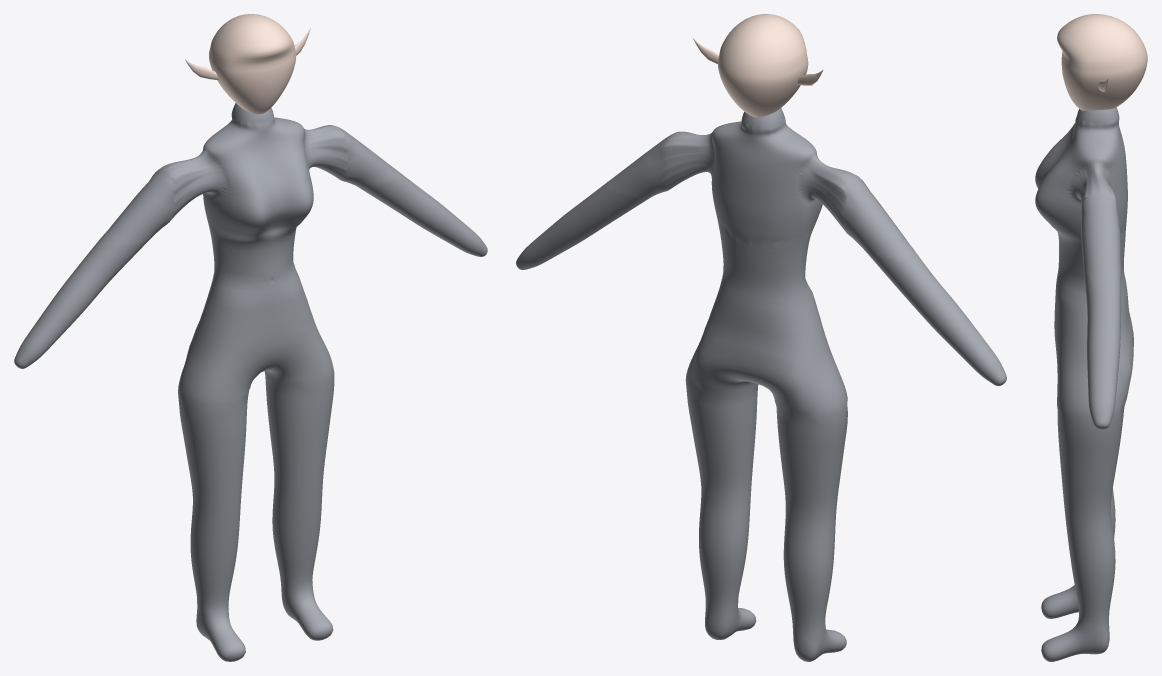
Rendered from pre-test-body.glb.
3 views of the same model, side by side, from view 1: azimuth 30°, elevation 25°; view 2: azimuth 150°, elevation 25°; view 3: azimuth 270°, elevation 25° (orthographic). The views are drawn at different scales.
Visible parts, largest first — view 1: emilia_v3_test_body, locked_context_emilia_head; view 2: emilia_v3_test_body, locked_context_emilia_head; view 3: emilia_v3_test_body, locked_context_emilia_head.
Boxes of the visible parts, x1,y1,x2,y2 form: emilia_v3_test_body: [14, 103, 487, 661]; locked_context_emilia_head: [209, 14, 295, 114]; emilia_v3_test_body: [516, 108, 1006, 661]; locked_context_emilia_head: [718, 14, 808, 117]; emilia_v3_test_body: [1035, 107, 1133, 661]; locked_context_emilia_head: [1057, 14, 1147, 110].
Size of the model in its own units: 1.31 by 1.63 by 0.2682.
